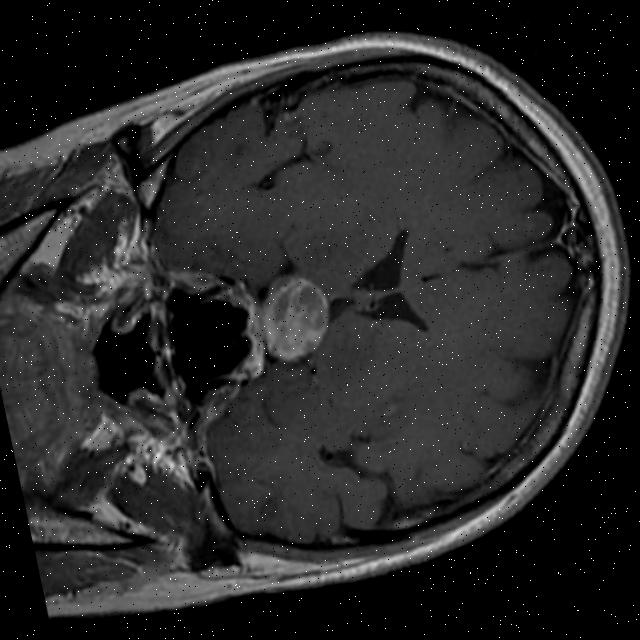Pituitary: (251, 267, 339, 367)
